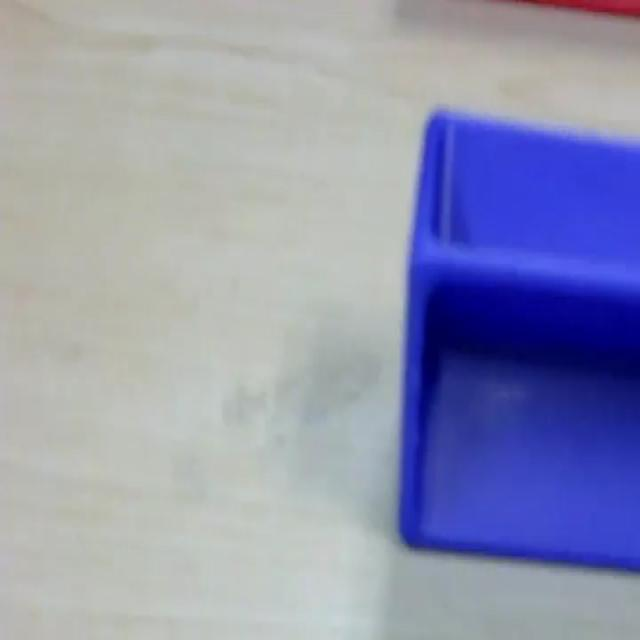blue_block: (397, 104, 638, 571)
